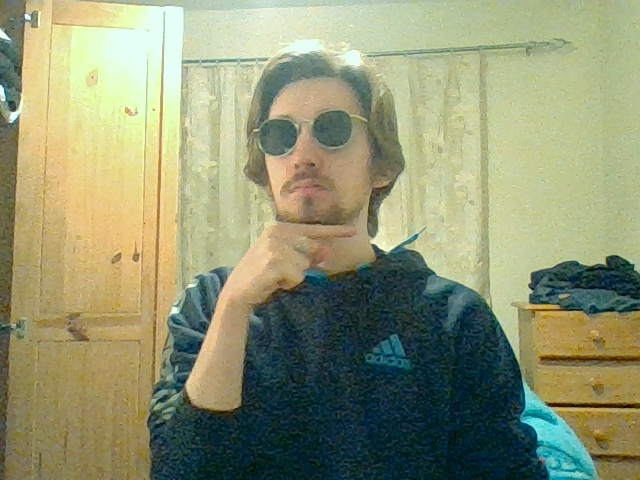son: (257, 222, 355, 291)
